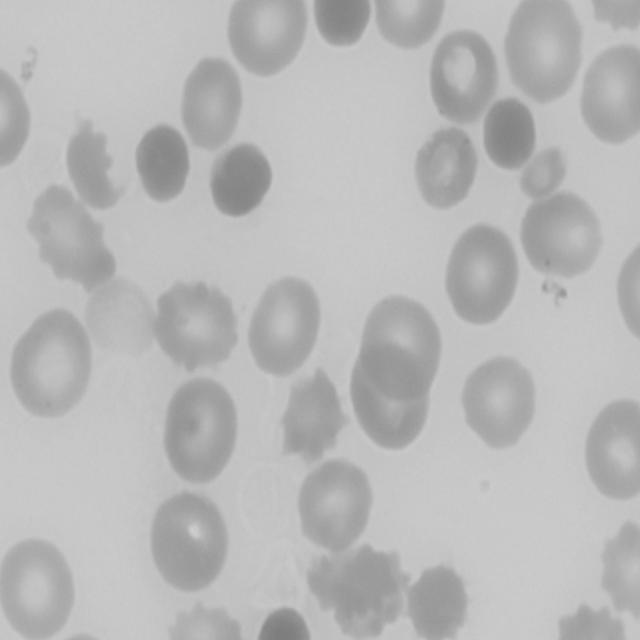RBC: (6, 308, 96, 422), (142, 489, 230, 596), (162, 370, 242, 486), (498, 0, 586, 104), (356, 290, 440, 398), (444, 221, 522, 332), (0, 531, 79, 640), (294, 456, 378, 558), (347, 350, 432, 450), (244, 276, 324, 380), (518, 190, 606, 282), (152, 282, 240, 374), (462, 348, 539, 451), (423, 26, 498, 126), (575, 40, 640, 148), (224, 0, 308, 83), (176, 54, 246, 152), (278, 370, 348, 464), (582, 395, 640, 505), (412, 126, 482, 215), (406, 563, 472, 640), (595, 513, 640, 620), (366, 0, 444, 48), (166, 600, 252, 640), (0, 68, 32, 174), (614, 234, 640, 353), (581, 0, 640, 38)
Spherocyte: (130, 114, 192, 204), (206, 141, 274, 218), (482, 96, 536, 171), (307, 0, 372, 48), (256, 604, 312, 640)
